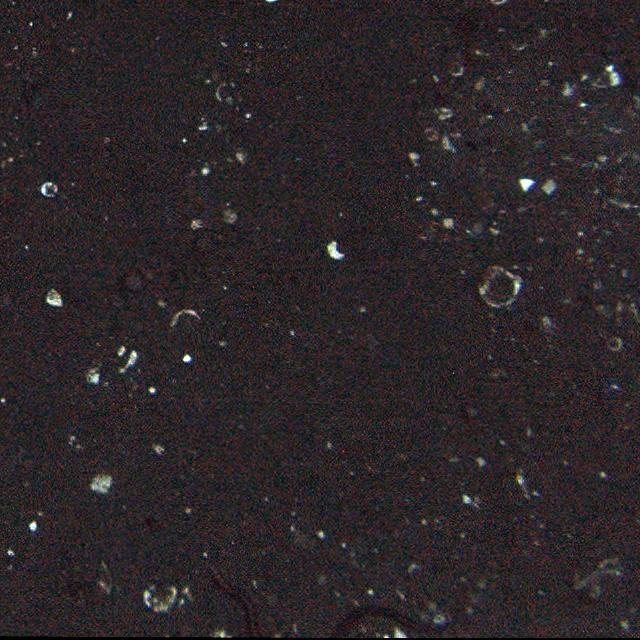eel: (208, 566, 450, 640)
